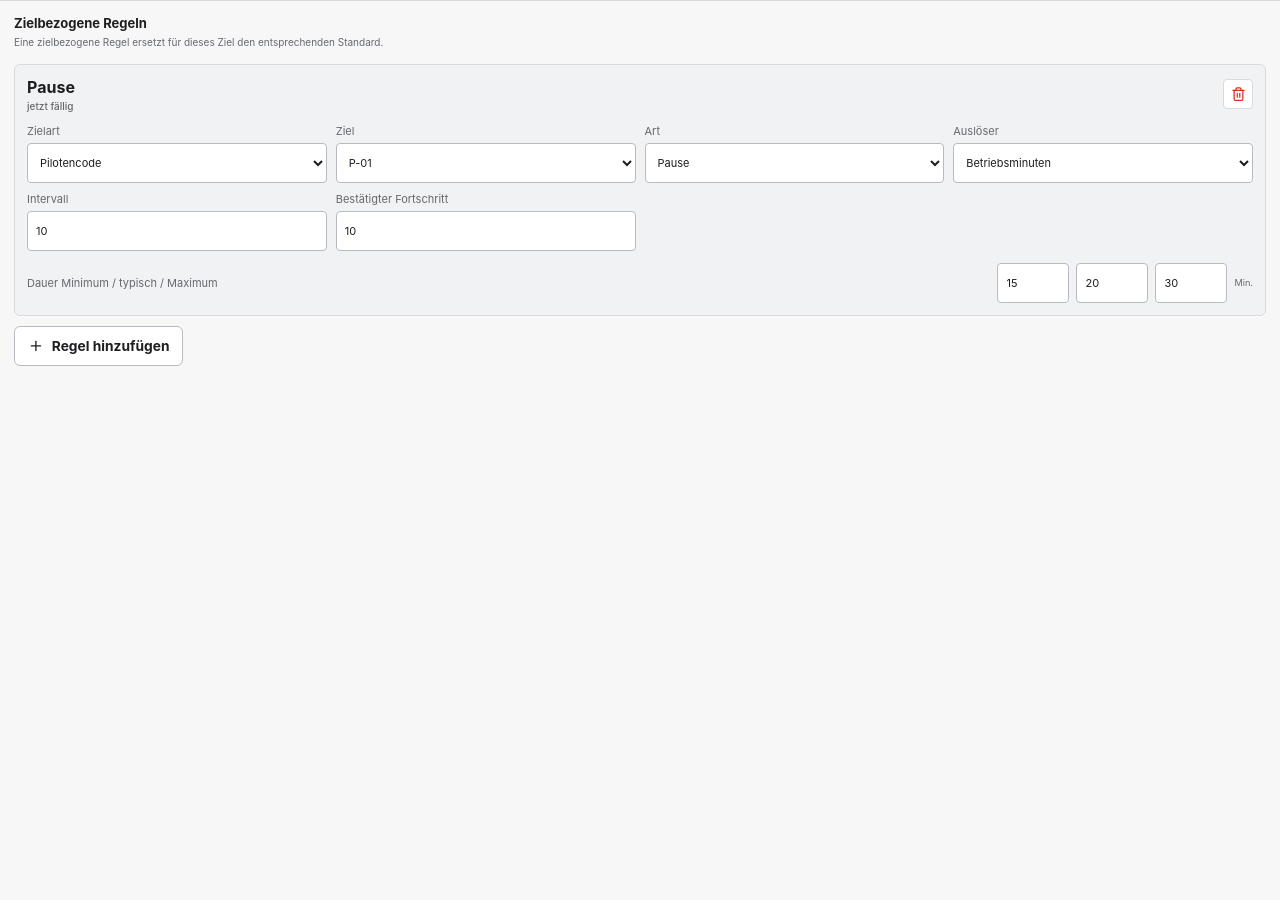
Test: simulation recurring rules editor › uses pilot defaults when no aircraft is available and avoids duplicate generated keys
Expected: the text "jetzt fällig" is shown, [27,100,75,112]
Click the button "Regel hinzufügen": coordinates (99, 346) [14,326,184,366]
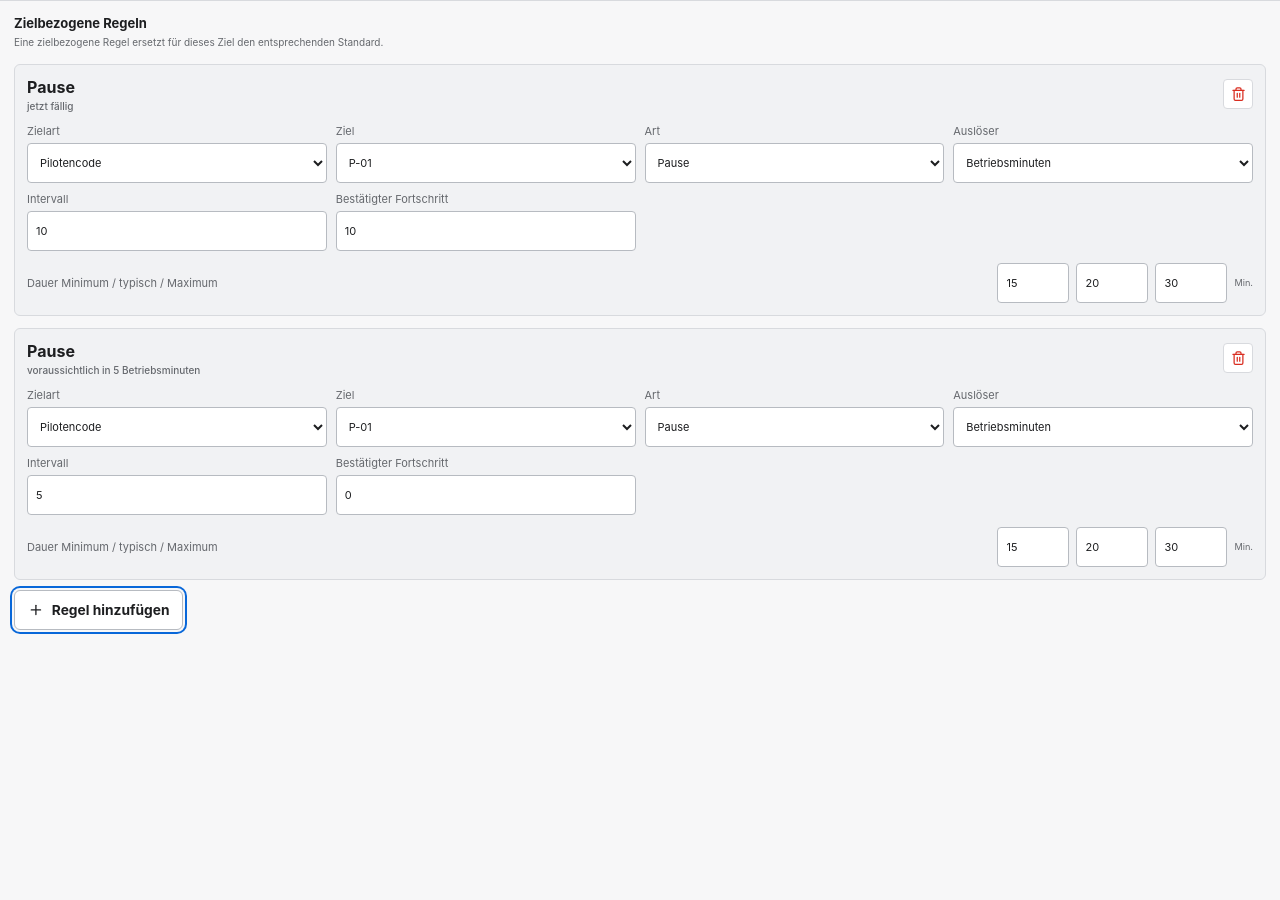
Expected: the button named "sim-rule-3 löschen" is shown, [1223,343,1253,373]
